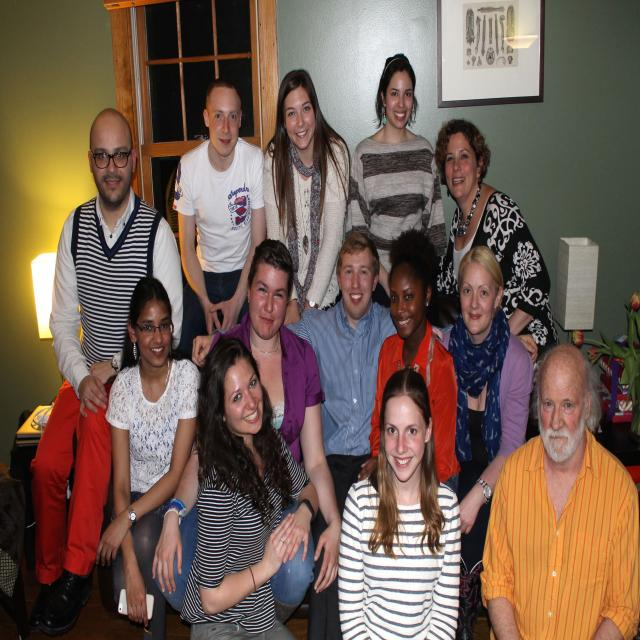body: (24, 98, 193, 640), (190, 230, 400, 640), (150, 236, 343, 626), (474, 336, 640, 640), (179, 332, 321, 640), (433, 118, 561, 444), (434, 241, 535, 629), (95, 274, 201, 640), (335, 364, 465, 640), (357, 228, 462, 497), (170, 75, 268, 362), (343, 49, 450, 310), (262, 68, 351, 327)
